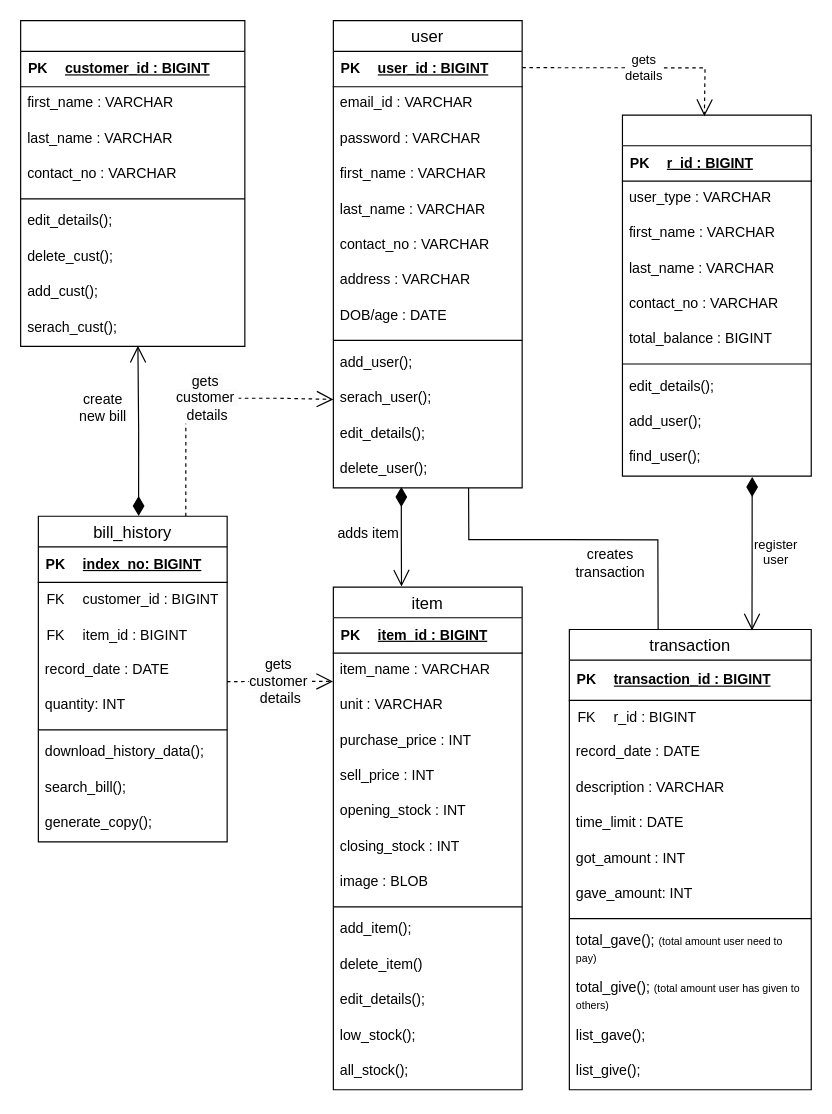
This 832x1114 diagram has some shape labels left out. The box of each missing label's shape, as (x1, y1, x2, y2) in pixels:
bill_customer: (19, 19, 245, 346)
record_user: (621, 114, 811, 476)
